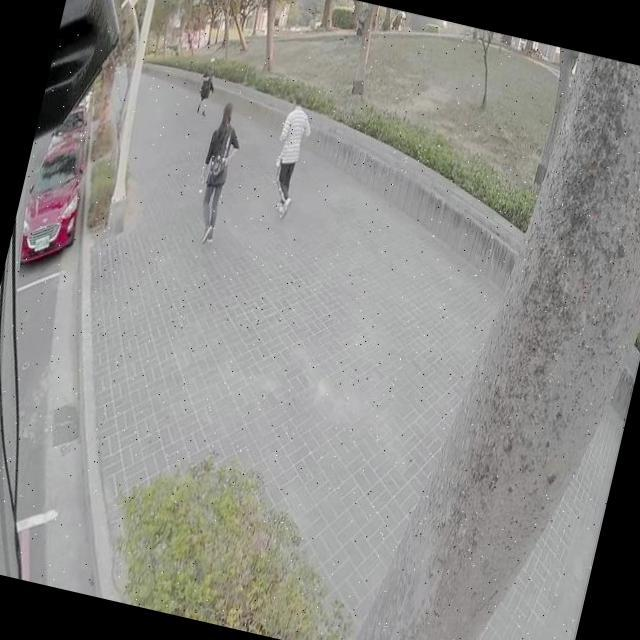person: (188, 101, 250, 251), (263, 88, 316, 215), (196, 54, 218, 114)
